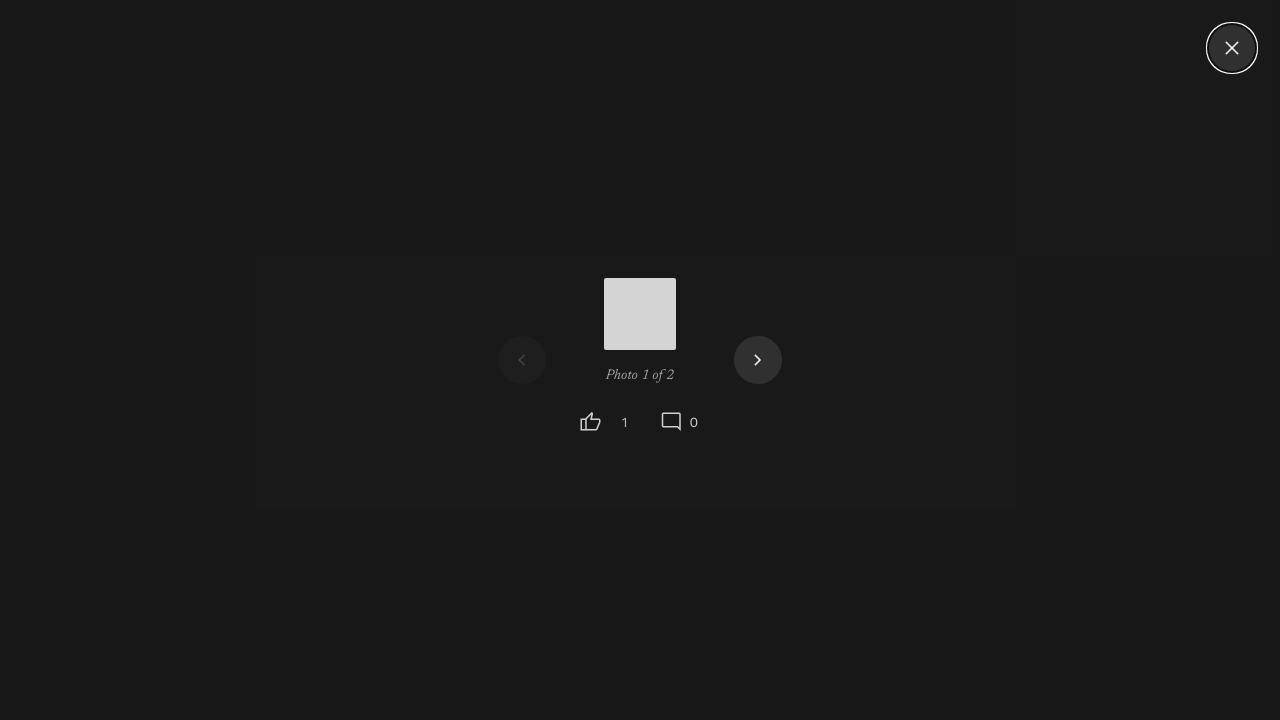
Test: PhotoLightbox › disables the Previous/Next/Close buttons while the comments panel is open, to protect an in-progress draft
The image size is (1280, 720).
Click the button named "View comments (0)" at (679, 422), box [647,404,710,440]
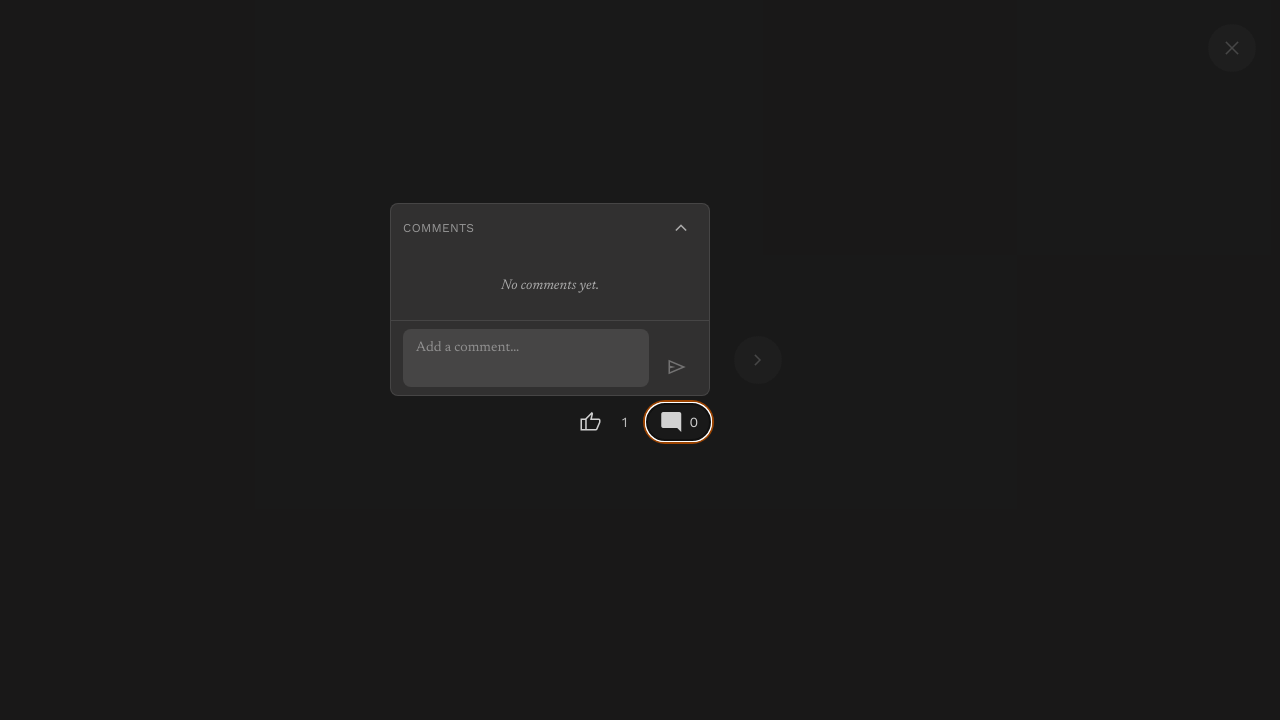
expect the button named "Previous photo" is disabled: met, box [498,336,546,384]
expect the button named "Next photo" is disabled: met, box [734,336,782,384]
expect the button named "Close photo viewer" is disabled: met, box [1208,24,1256,72]
// The backdrop click handler must also be suppressed, not just the button.
Click the dialog named "Photo viewer" at (77, 360), box [0,0,1279,719]
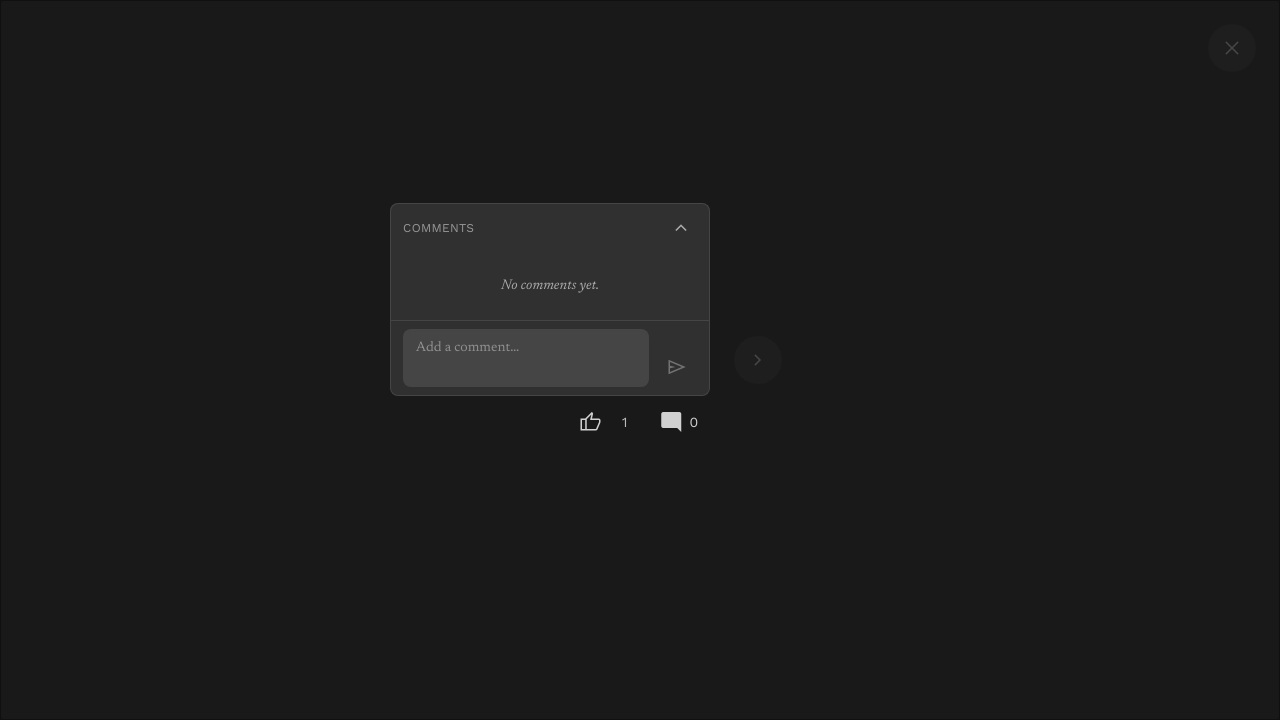
Click the button named "Collapse comments" at (681, 228), box [665,212,697,244]
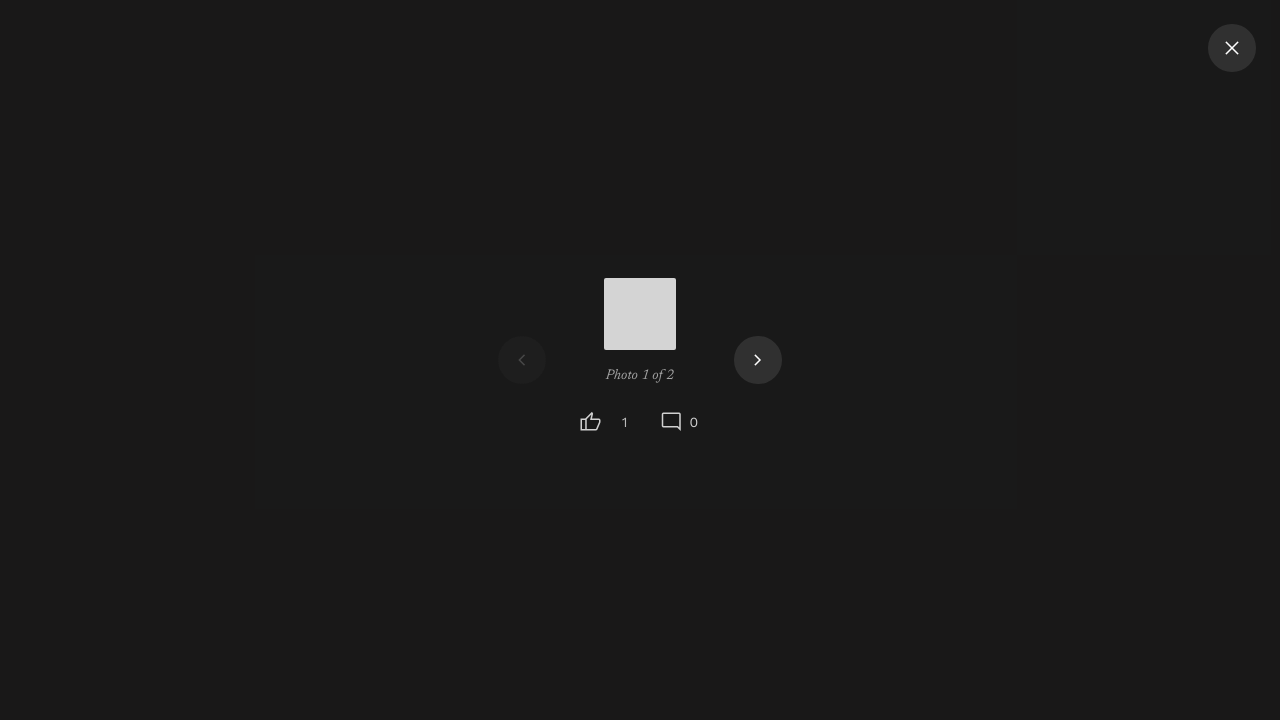
expect the button named "Next photo" is enabled: met, box [734,336,782,384]
